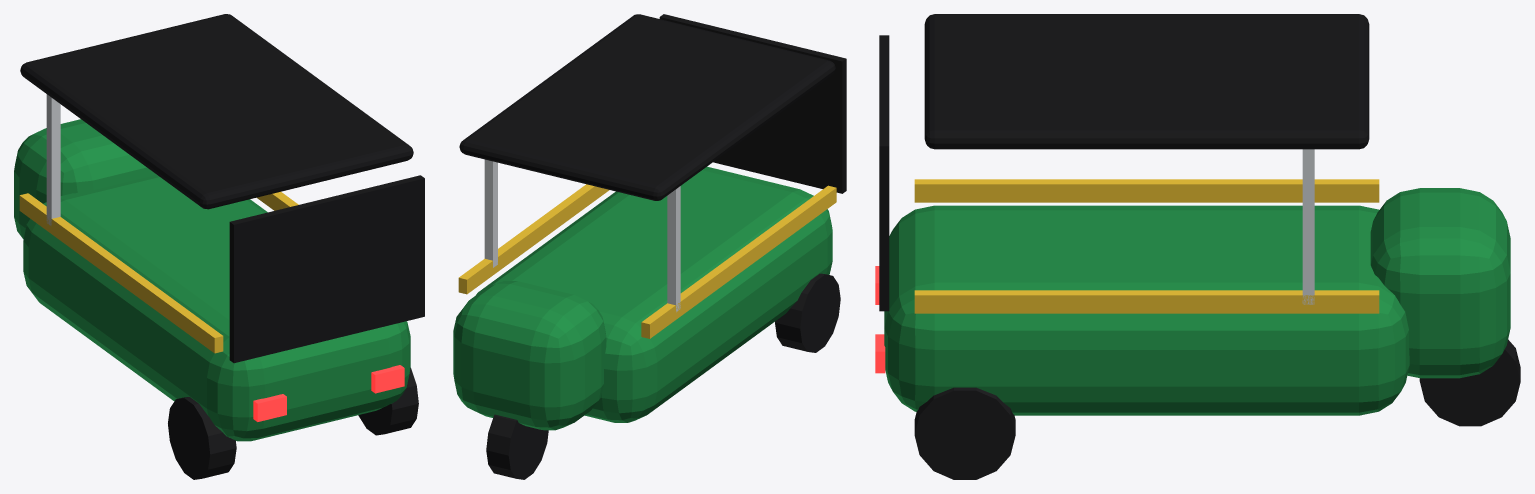
File: rick-auto-C-7cBgHX.glb
The picture shows the model from 3 angles, left to right: view 1: azimuth 30°, elevation 25°; view 2: azimuth 150°, elevation 25°; view 3: azimuth 270°, elevation 25°; orthographic projection. The views are drawn at different scales.
Visible parts, largest first — view 1: Cube, Cube.002, Cube.007, Cube.001, Cube.004, Cylinder, Cube.003, Cylinder.001, Cube.008, Cube.009, Cube.006; view 2: Cube, Cube.002, Cube.001, Cube.007, Cube.004, Cylinder, Cube.006, Cylinder.002, Cube.003, Cube.005; view 3: Cube, Cube.002, Cube.001, Cube.006, Cube.004, Cylinder.001, Cylinder.002, Cube.007, Cube.005.
Part boxes in pixels (x1=…): Cube: x1=23, y1=174, x2=410, y2=441; Cube.002: x1=20, y1=14, x2=413, y2=209; Cube.007: x1=229, y1=175, x2=424, y2=363; Cube.001: x1=14, y1=119, x2=156, y2=239; Cube.004: x1=19, y1=193, x2=223, y2=353; Cylinder: x1=168, y1=397, x2=236, y2=479; Cube.003: x1=46, y1=94, x2=60, y2=225; Cylinder.001: x1=358, y1=367, x2=418, y2=435; Cube.008: x1=253, y1=394, x2=286, y2=421; Cube.009: x1=371, y1=365, x2=404, y2=393; Cube.006: x1=257, y1=191, x2=298, y2=210; Cube: x1=476, y1=166, x2=832, y2=422; Cube.002: x1=459, y1=14, x2=835, y2=200; Cube.001: x1=453, y1=281, x2=606, y2=430; Cube.007: x1=659, y1=14, x2=846, y2=193; Cube.004: x1=641, y1=185, x2=836, y2=338; Cylinder: x1=775, y1=273, x2=840, y2=352; Cube.006: x1=458, y1=184, x2=609, y2=294; Cylinder.002: x1=486, y1=414, x2=548, y2=479; Cube.003: x1=667, y1=186, x2=680, y2=312; Cube.005: x1=484, y1=159, x2=497, y2=267; Cube: x1=884, y1=205, x2=1409, y2=415; Cube.002: x1=924, y1=14, x2=1369, y2=149; Cube.001: x1=1370, y1=188, x2=1510, y2=378; Cube.006: x1=914, y1=290, x2=1379, y2=313; Cube.004: x1=914, y1=179, x2=1379, y2=202; Cylinder.001: x1=914, y1=387, x2=1015, y2=479; Cylinder.002: x1=1419, y1=339, x2=1520, y2=426; Cube.007: x1=879, y1=35, x2=889, y2=311; Cube.005: x1=1302, y1=149, x2=1314, y2=304.
Bounding box in the file's own units: 1.45 × 1.89 × 3.19.
